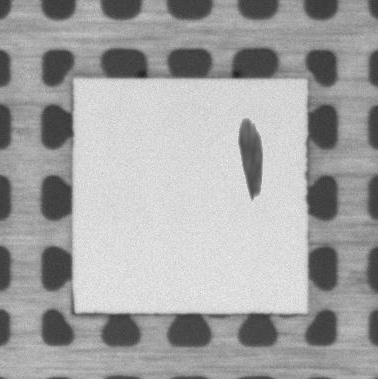DIE_INK: (233, 109, 266, 214)
